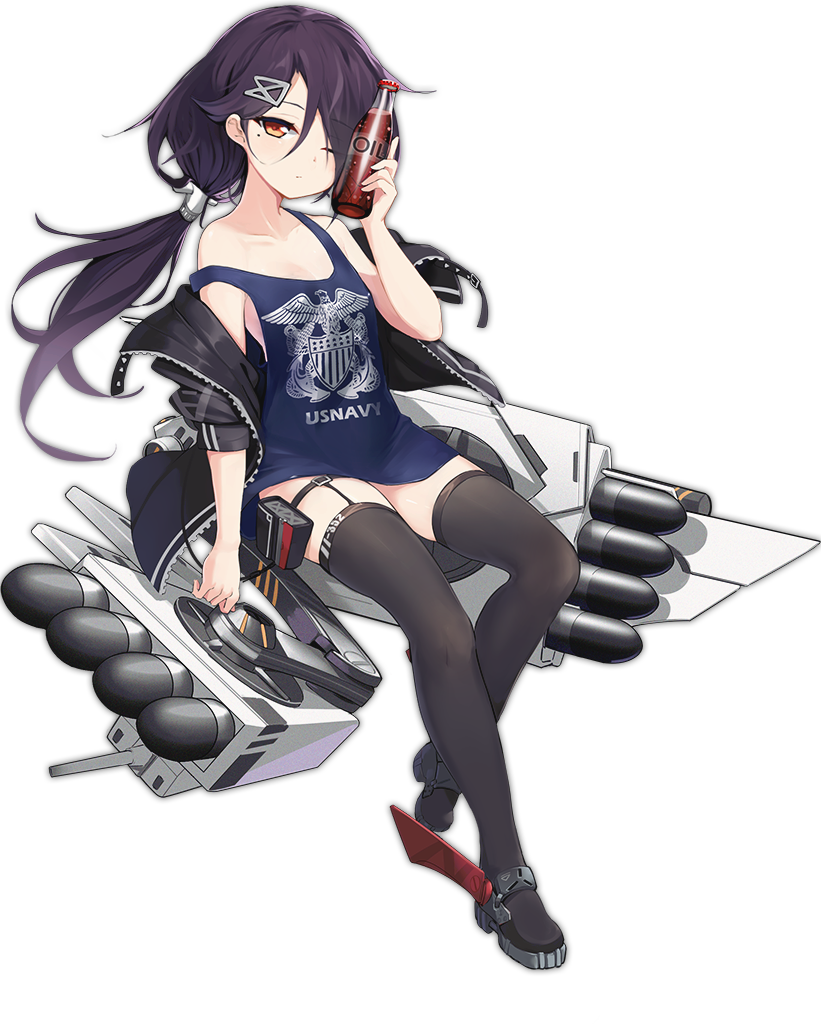person: (57, 1, 538, 841)
